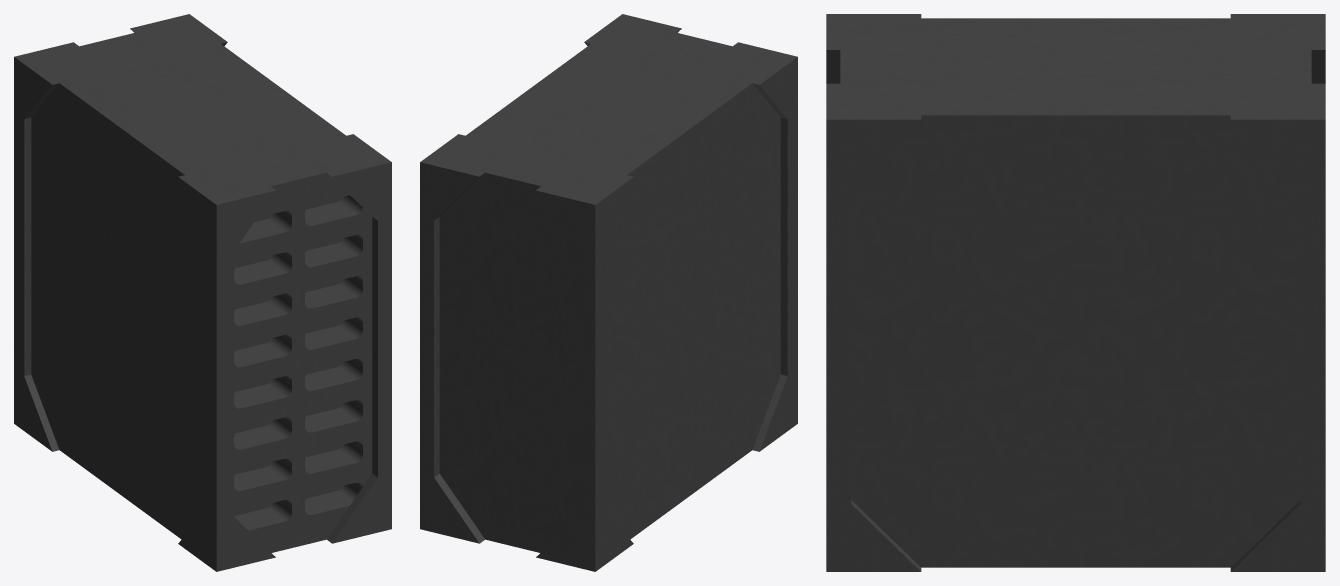
File: WallPiece_02_Full.fbx
The picture shows the model from 3 angles, left to right: view 1: azimuth 30°, elevation 25°; view 2: azimuth 150°, elevation 25°; view 3: azimuth 270°, elevation 25°; orthographic projection. The views are drawn at different scales.
Parts seen in each view (by area): view 1: Corridor_WallPiece_02_Full; view 2: Corridor_WallPiece_02_Full; view 3: Corridor_WallPiece_02_Full.
Boxes of the visible parts, x1,y1,x2,y2 form: Corridor_WallPiece_02_Full: [14, 14, 391, 571]; Corridor_WallPiece_02_Full: [420, 14, 797, 571]; Corridor_WallPiece_02_Full: [826, 14, 1325, 571].
Size of the model in its own units: 50 by 100 by 100.
Materials: 1 (1 with a texture image).
